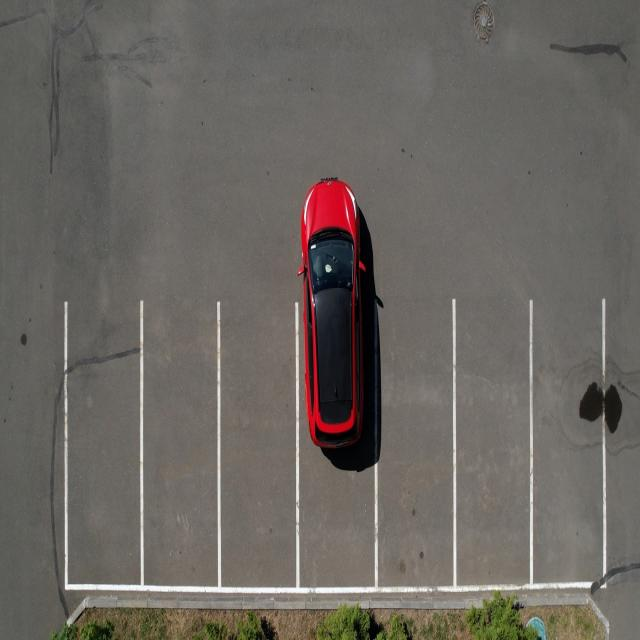space-empty: (375, 282, 459, 584), (449, 293, 535, 586), (527, 292, 611, 586), (220, 298, 302, 591), (138, 296, 220, 584), (59, 298, 140, 586)
space-occupied: (298, 295, 378, 586)
